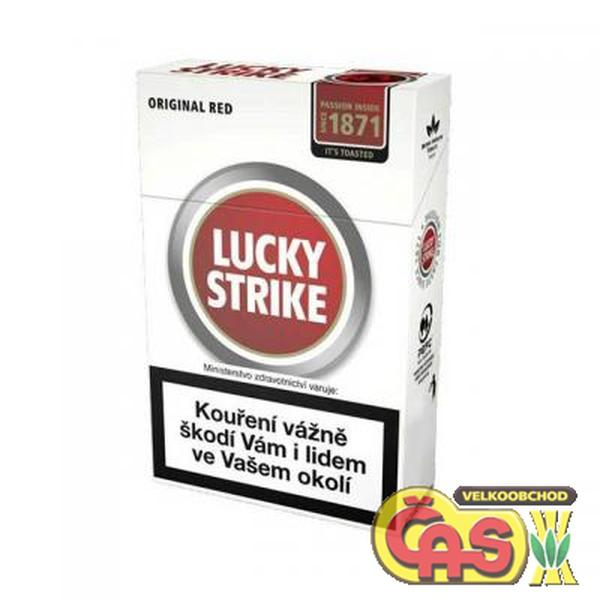lucky_strike_red: (148, 81, 395, 477)
